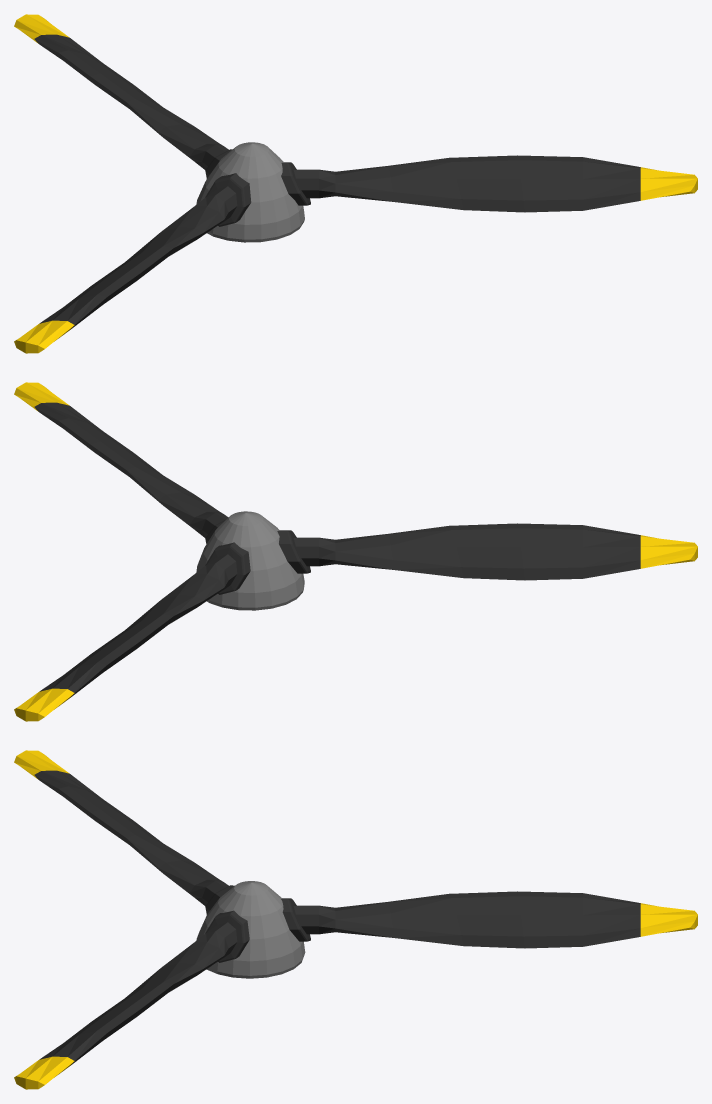
Rendered from 1361 Propeller.obj.
3 views of the same model, one above another, from view 1: azimuth 30°, elevation 25°; view 2: azimuth 150°, elevation 25°; view 3: azimuth 270°, elevation 25° (orthographic).
Visible parts, largest first — view 1: Propeller; view 2: Propeller; view 3: Propeller.
Boxes of the visible parts, bbox=[...] form: Propeller: bbox=[14, 14, 697, 353]; Propeller: bbox=[14, 382, 697, 721]; Propeller: bbox=[14, 750, 697, 1089].
Size of the model in its own units: 175 by 18.78 by 153.
Materials: 1 (1 with a texture image).
